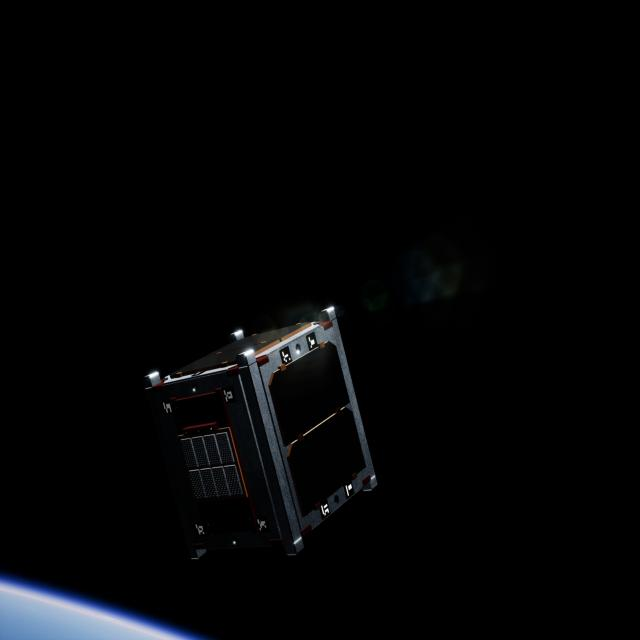satellite: (137, 302, 386, 567)
